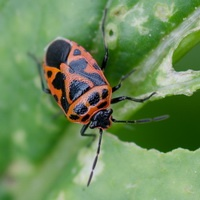insect: (28, 1, 168, 185)
